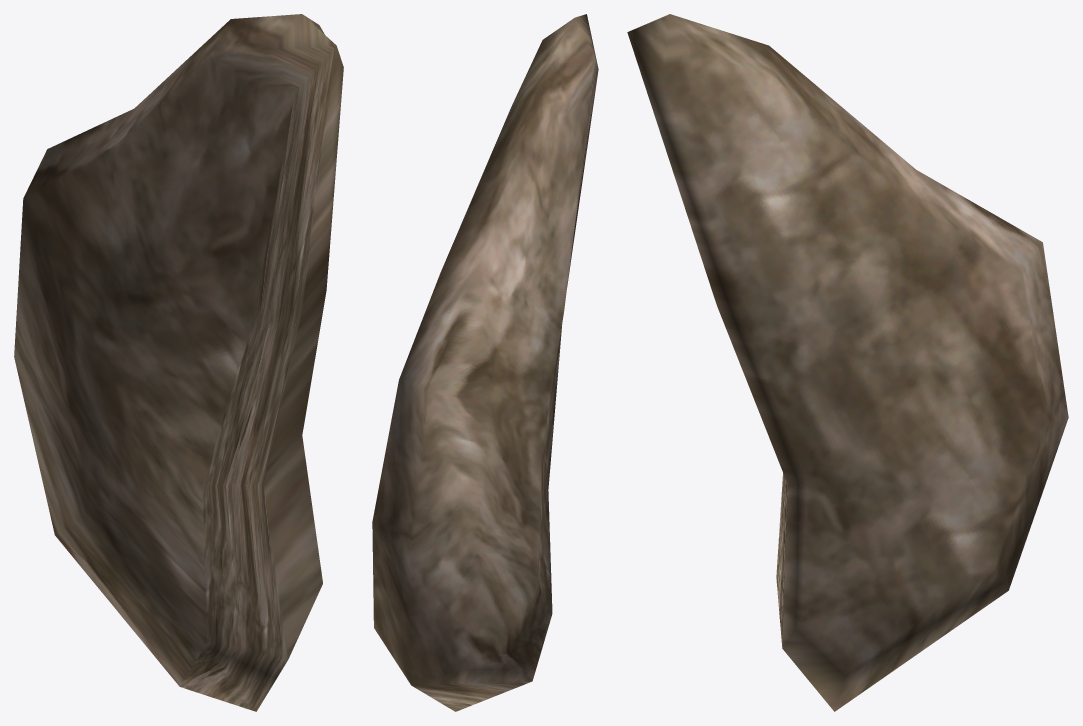
Rendered from OVERHILL_A_01_LINE306.fbx.
The picture shows the model from 3 angles, left to right: view 1: azimuth 30°, elevation 25°; view 2: azimuth 150°, elevation 25°; view 3: azimuth 270°, elevation 25°; orthographic projection. The views are drawn at different scales.
Parts seen in each view (by area): view 1: OVERHILL_A_01_LINE306; view 2: OVERHILL_A_01_LINE306; view 3: OVERHILL_A_01_LINE306.
Part boxes in pixels (box(x1,y1,x2,y2)): OVERHILL_A_01_LINE306: box(14, 14, 343, 711); OVERHILL_A_01_LINE306: box(372, 14, 598, 711); OVERHILL_A_01_LINE306: box(627, 14, 1068, 711).
Size of the model in its own units: 11634 by 46916 by 27713.
Materials: 1 (1 with a texture image).
